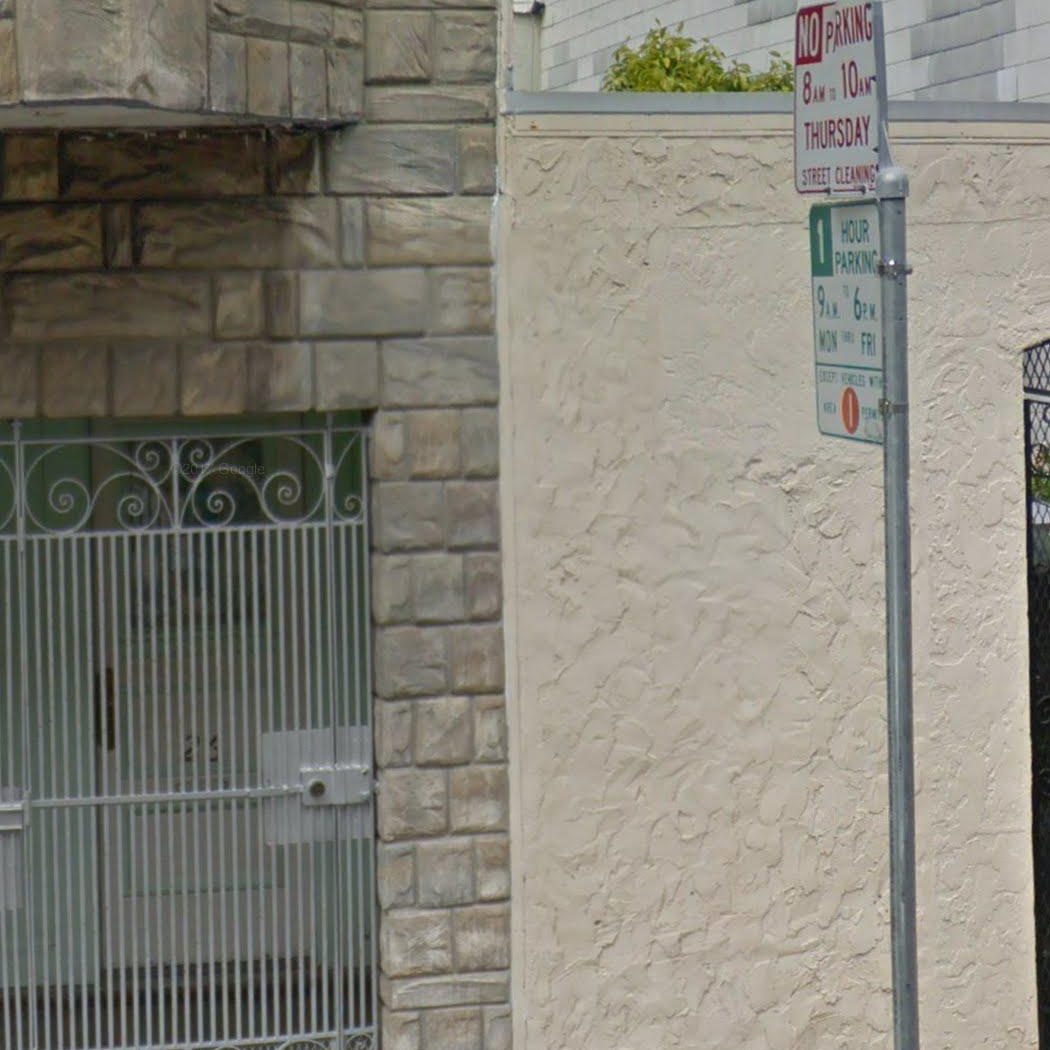1 Hour Parking: (807, 197, 887, 446)
No Parking: (793, 0, 882, 195)
